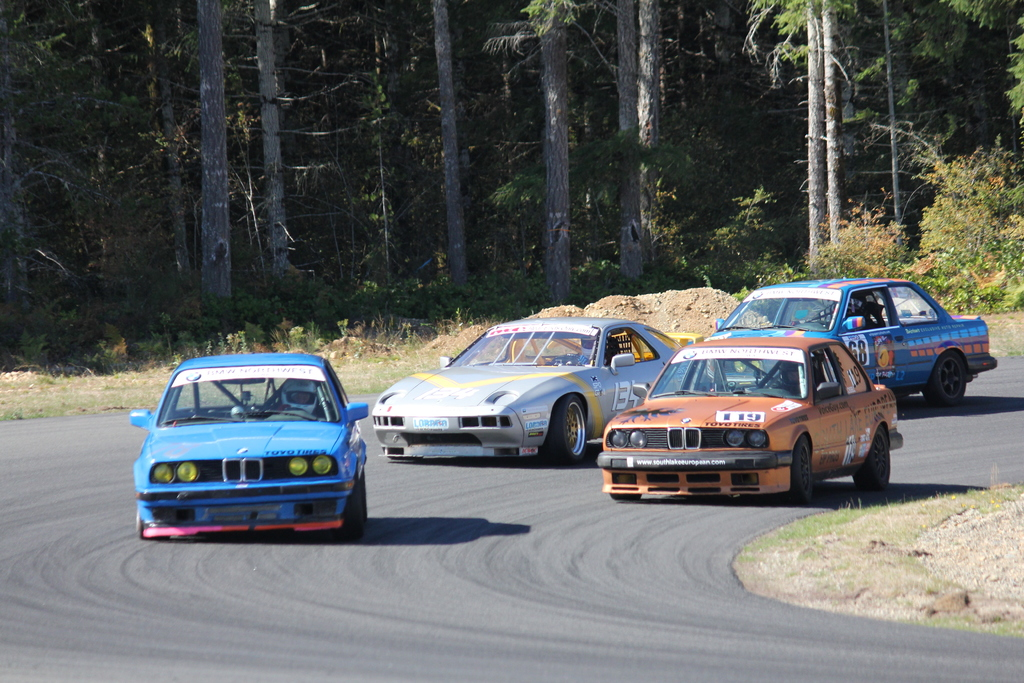Car: (590, 332, 917, 524), (364, 310, 693, 483), (128, 344, 375, 551), (688, 276, 1008, 433)
